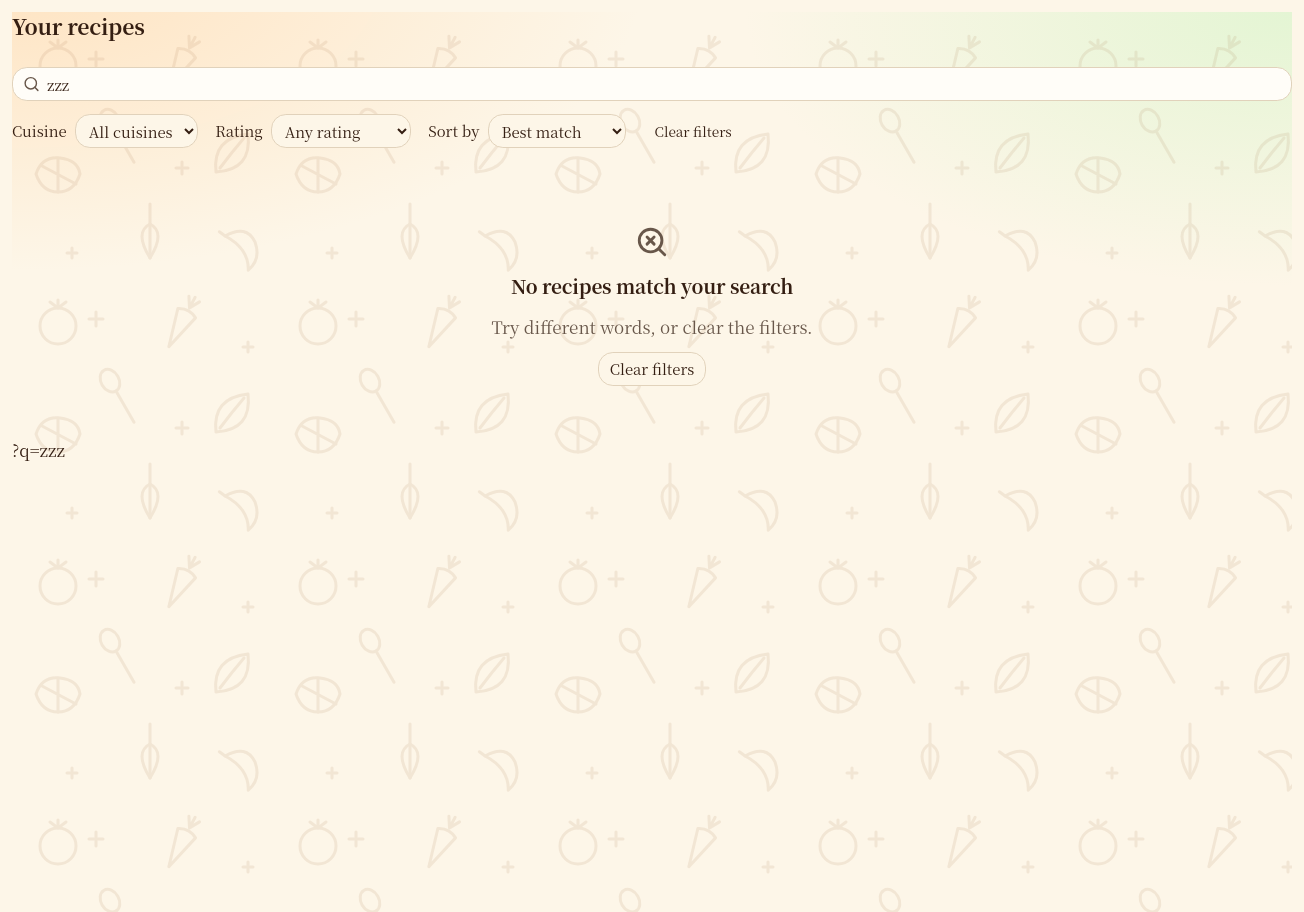
searching › says so when nothing matches and offers to clear the search
The image size is (1304, 912).
Expected: the heading "No recipes match your search" is shown, [511,271,793,301]
Click the button "Clear filters" in the row of "Sort by". click: (693, 131)
box: [643,116,743,146]
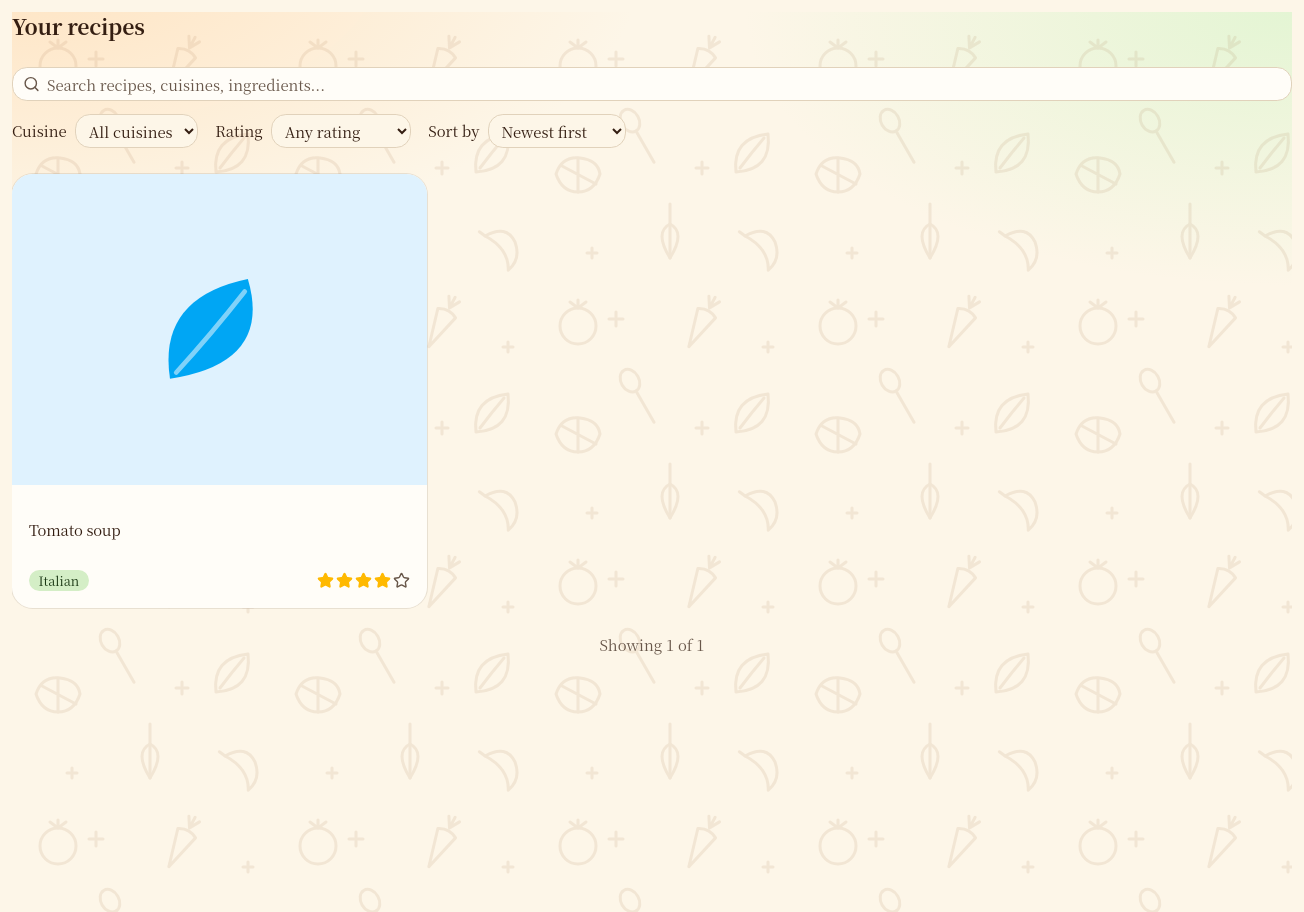
Result: the heading "Tomato soup" is shown at [29,519,121,540]
Result: the search field is empty at [12,67,1292,101]
